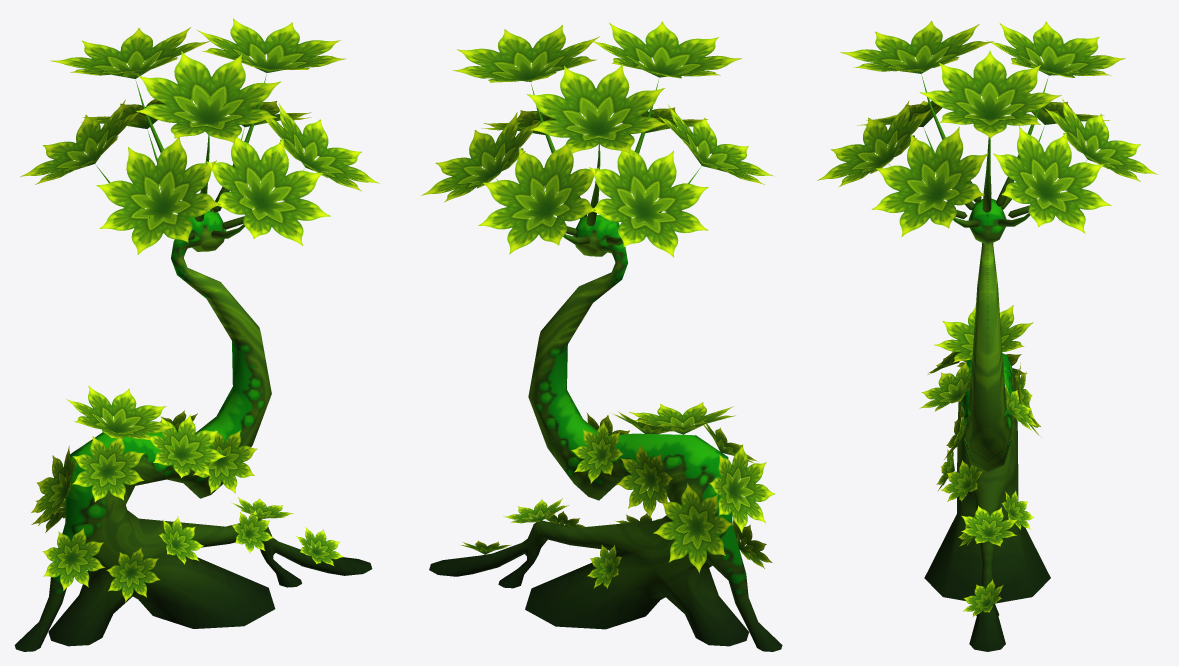
File: Green_Tree_04c.FBX
3 renders of one model, left to right at view 1: azimuth 30°, elevation 25°; view 2: azimuth 150°, elevation 25°; view 3: azimuth 270°, elevation 25°, orthographic. The views are drawn at different scales.
Visible parts, largest first — view 1: Green_Tree_04c; view 2: Green_Tree_04c; view 3: Green_Tree_04c.
Boxes of the visible parts, bbox=[...] form: Green_Tree_04c: bbox=[14, 18, 379, 651]; Green_Tree_04c: bbox=[421, 21, 782, 651]; Green_Tree_04c: bbox=[817, 21, 1157, 651].
Bounding box in the file's own units: 257 × 385 × 234.
